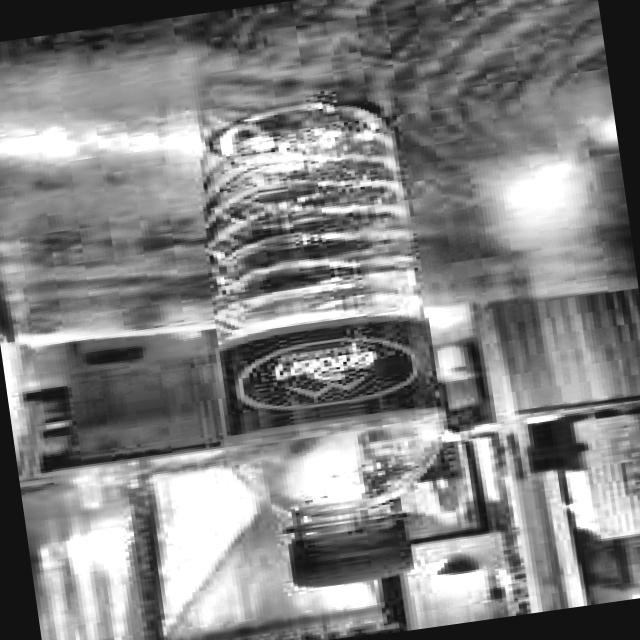waterbottle: (160, 72, 490, 616)
